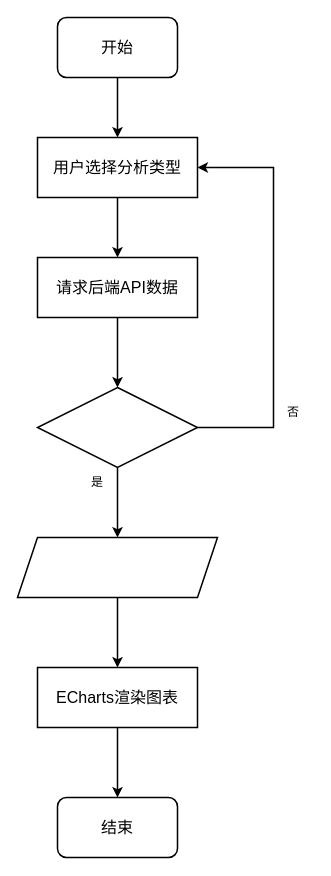
Some shapes in this 331 by 876 pixel diagram are drawn without their labels. Each missing label, with the centre of its shape:
数据充足?: point 117,427
返回JSON聚合数据: point 117,567
